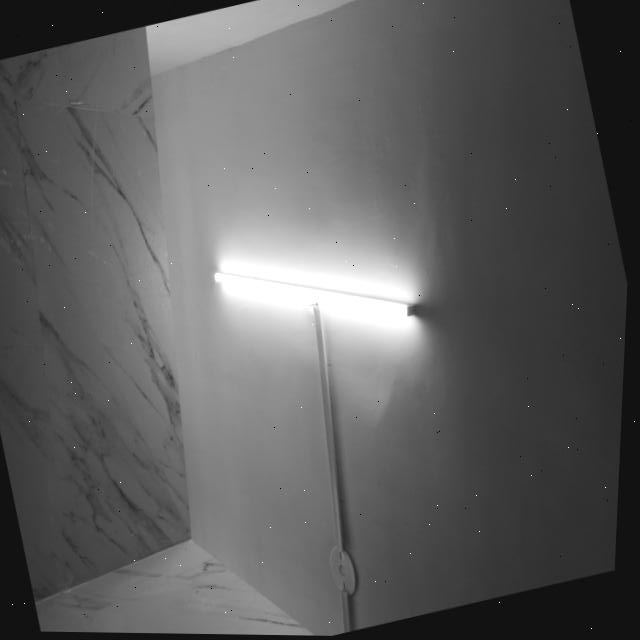fluorescent tube: (207, 218, 434, 375)
